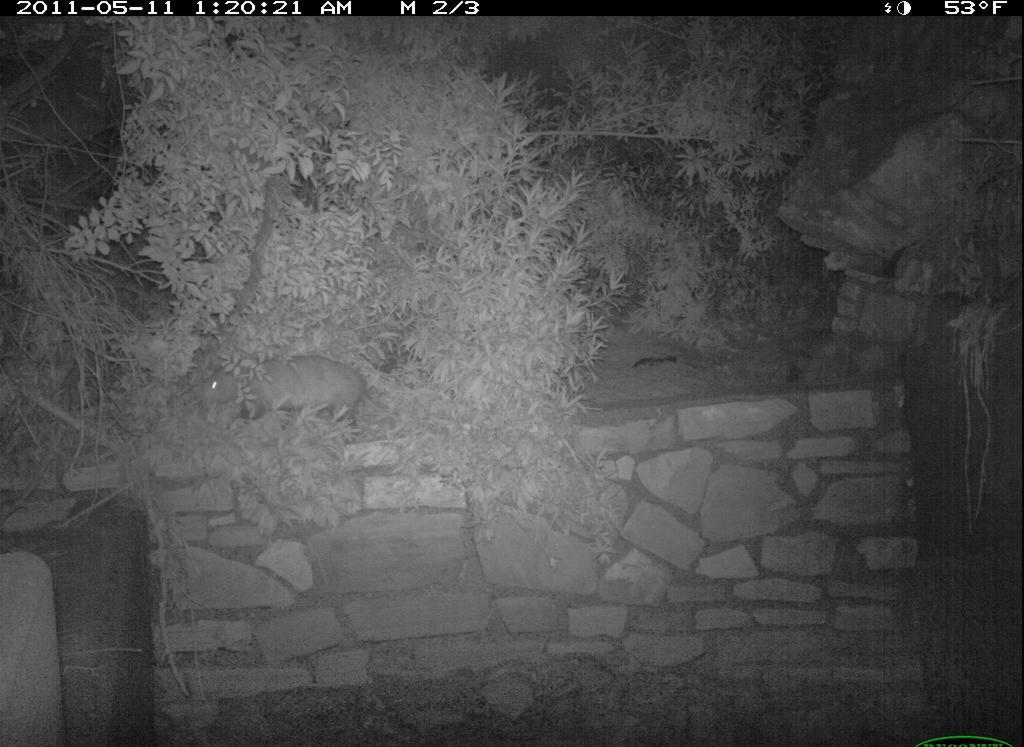opossum: (203, 349, 377, 437)
